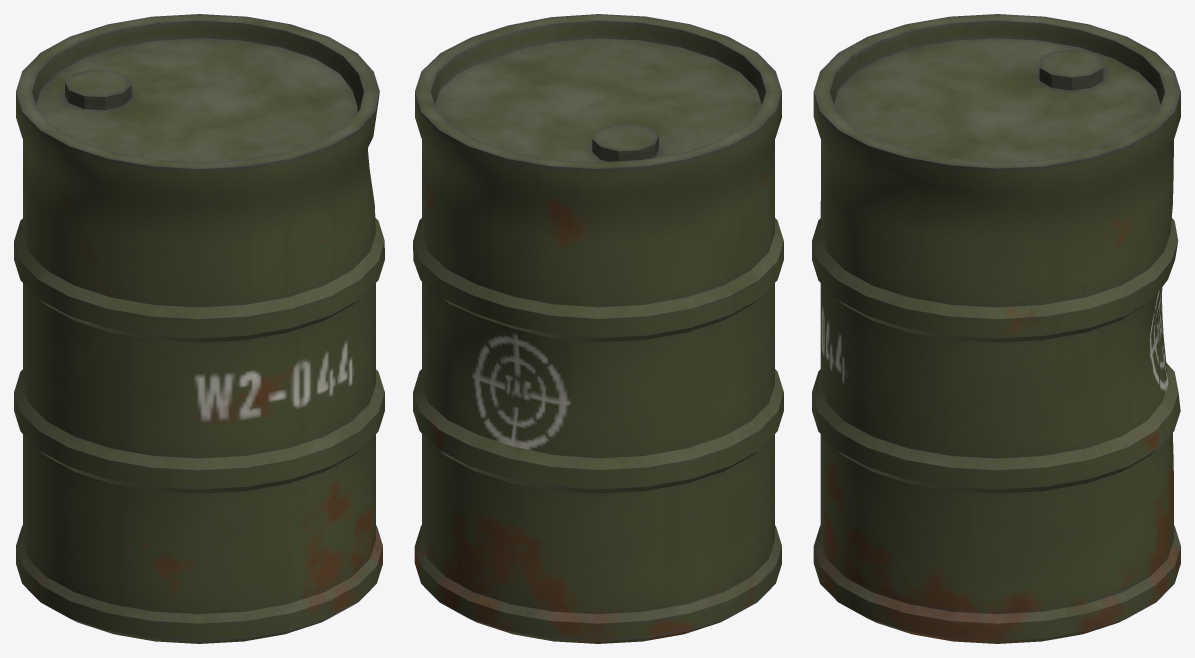
The model's file is W2_OilDrum_Olive.fbx.
3 views of the same model, side by side, from view 1: azimuth 30°, elevation 25°; view 2: azimuth 150°, elevation 25°; view 3: azimuth 270°, elevation 25° (orthographic).
Parts seen in each view (by area): view 1: W2_OilDrum_Olive; view 2: W2_OilDrum_Olive; view 3: W2_OilDrum_Olive.
Part boxes in pixels (left/top/right/bottom): W2_OilDrum_Olive: left=14, top=14, right=384, bottom=643; W2_OilDrum_Olive: left=413, top=14, right=783, bottom=643; W2_OilDrum_Olive: left=812, top=14, right=1180, bottom=643.
Size of the model in its own units: 210 by 300 by 209.
Materials: 1 (1 with a texture image).
